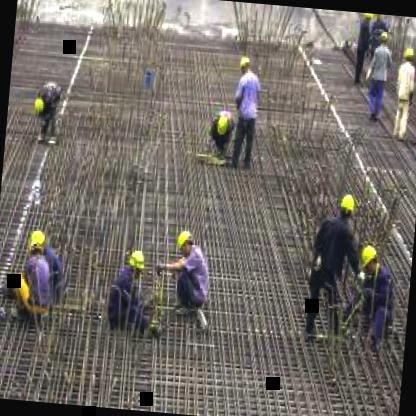helmet: (359, 238, 382, 276), (210, 108, 234, 142), (25, 227, 50, 258), (176, 224, 197, 260), (336, 192, 358, 223), (126, 248, 148, 277), (30, 90, 49, 119), (237, 51, 256, 80)
